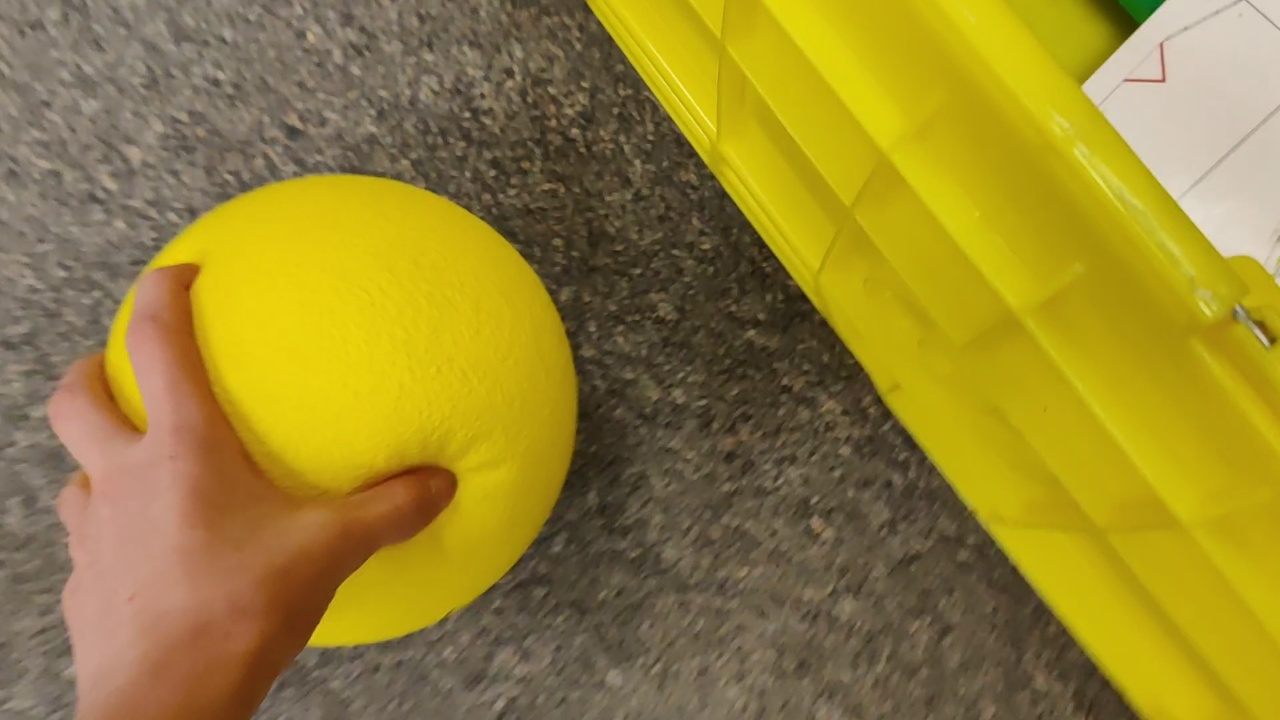Ball: (100, 174, 576, 645)
